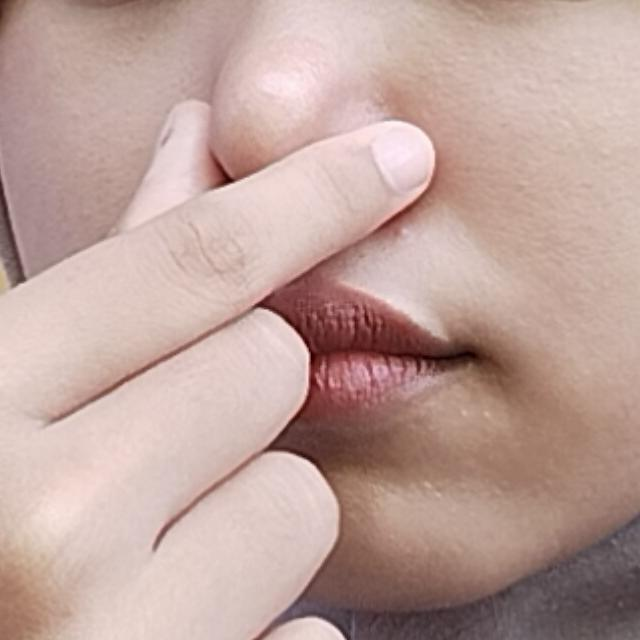bau: (0, 18, 526, 640)
